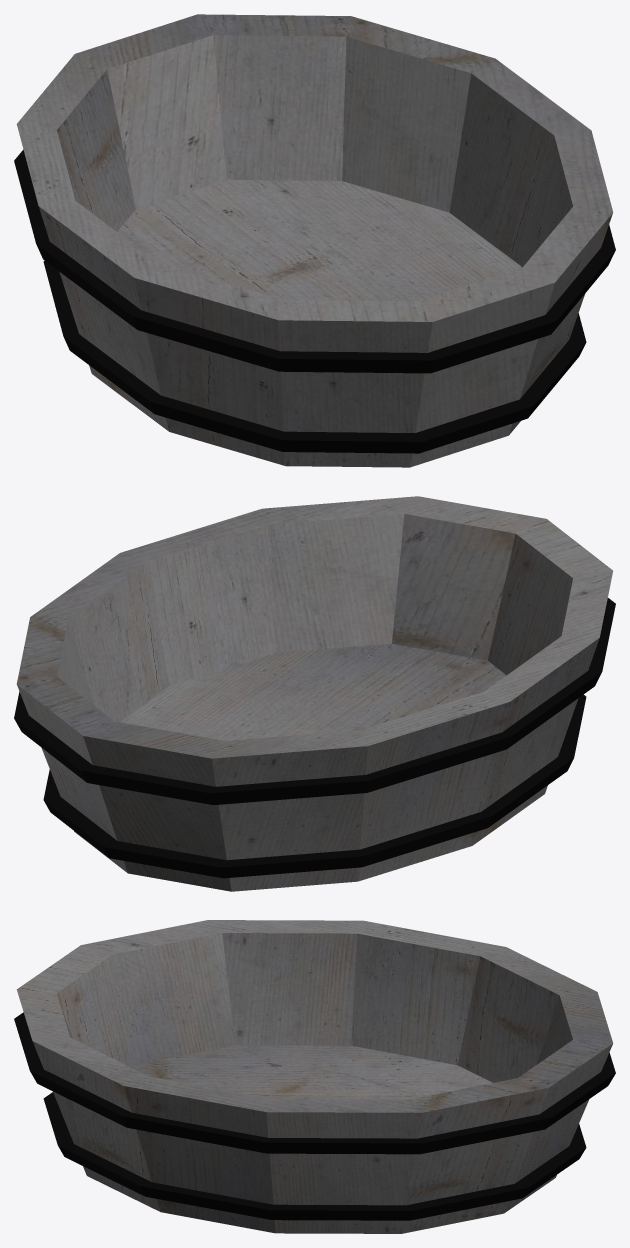
File: bathtub.glb
3 views of the same model, one above another, from view 1: azimuth 30°, elevation 25°; view 2: azimuth 150°, elevation 25°; view 3: azimuth 270°, elevation 25° (orthographic). The views are drawn at different scales.
Parts seen in each view (by area): view 1: bathtub; view 2: bathtub; view 3: bathtub.
Part boxes in pixels (bbox=[...]): bathtub: bbox=[14, 14, 615, 467]; bathtub: bbox=[14, 496, 615, 891]; bathtub: bbox=[14, 920, 615, 1233].
Bounding box in the file's own units: 1.38 × 0.4621 × 1.8.
2 materials, 1 textured.
